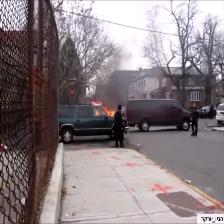fire: (91, 106, 119, 120)
smoke: (98, 56, 141, 115)
